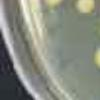yellow: (73, 0, 97, 15), (90, 46, 100, 72), (41, 0, 65, 9)
